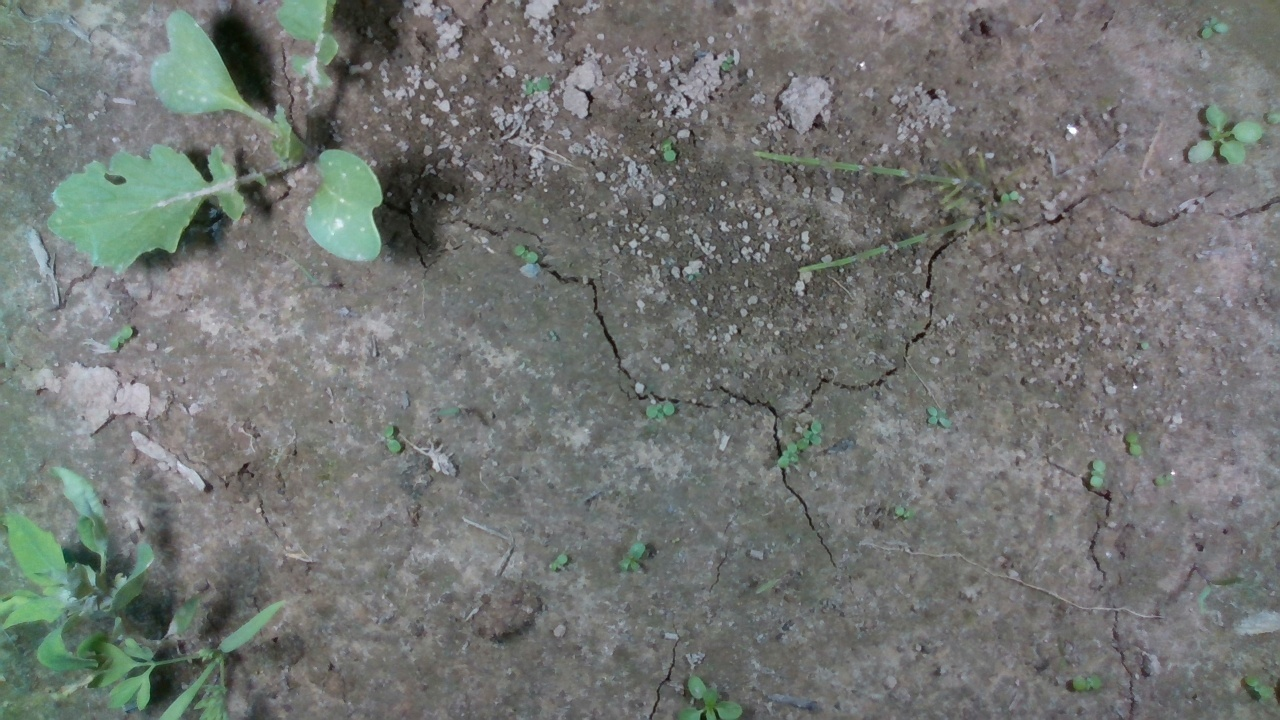weed: (507, 240, 540, 272), (1199, 14, 1227, 48), (377, 422, 403, 457), (657, 138, 687, 164), (1084, 456, 1105, 491), (926, 404, 950, 430), (649, 397, 669, 424), (547, 550, 570, 573), (1122, 432, 1143, 457)
